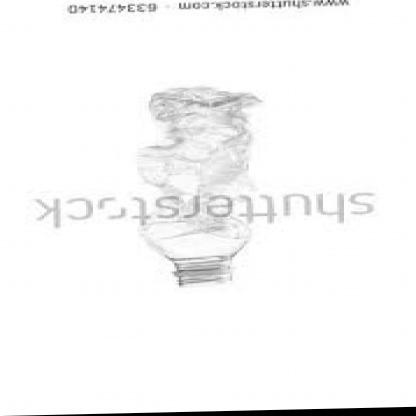trash: (138, 87, 259, 284)
